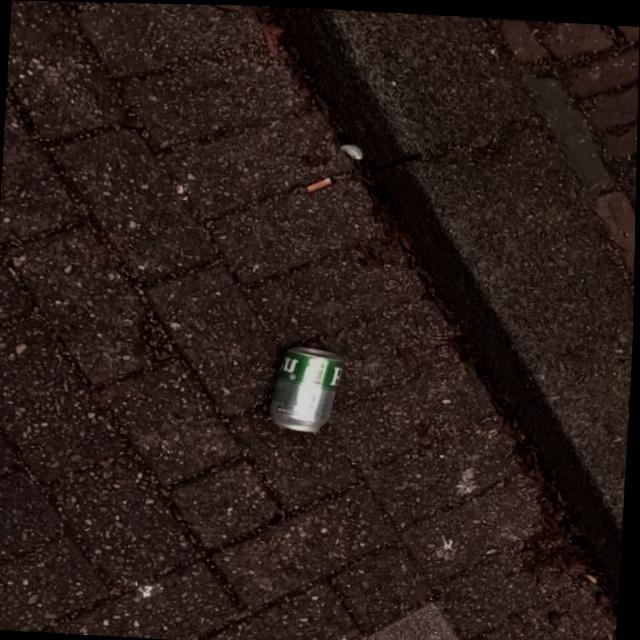Can-Metal: (270, 342, 347, 438)
